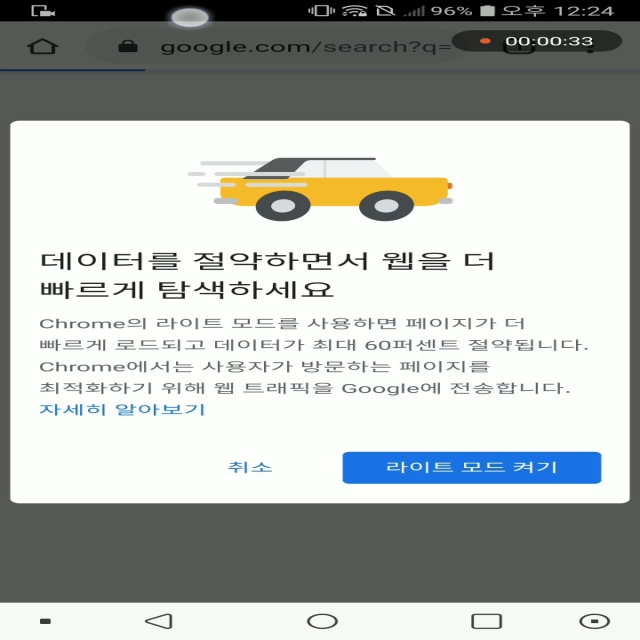Cursor: (169, 8, 214, 30)
